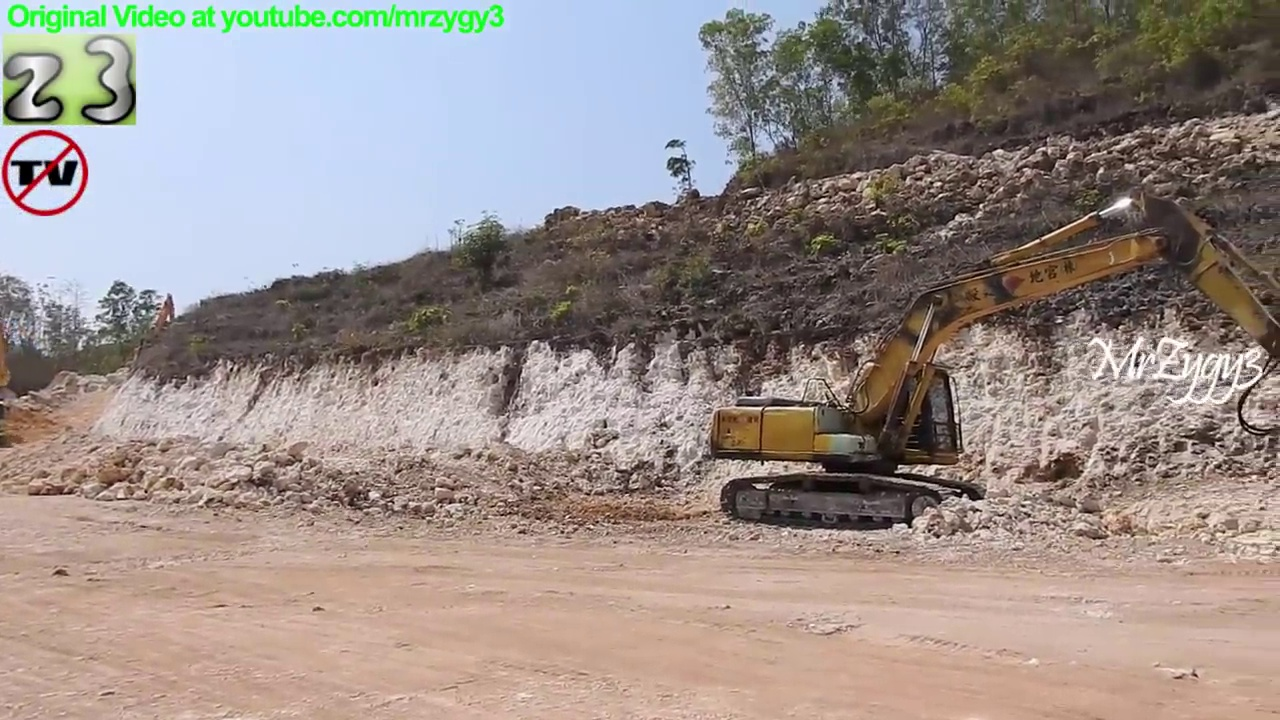excavator: (705, 186, 1280, 538), (123, 292, 184, 381)
